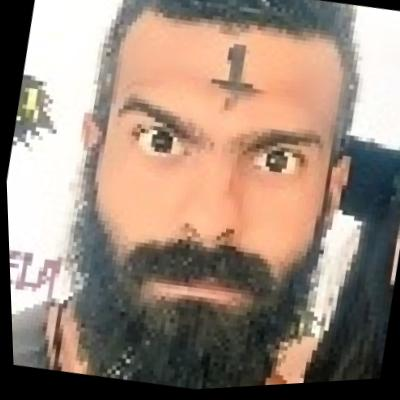angry: (66, 0, 357, 384)
